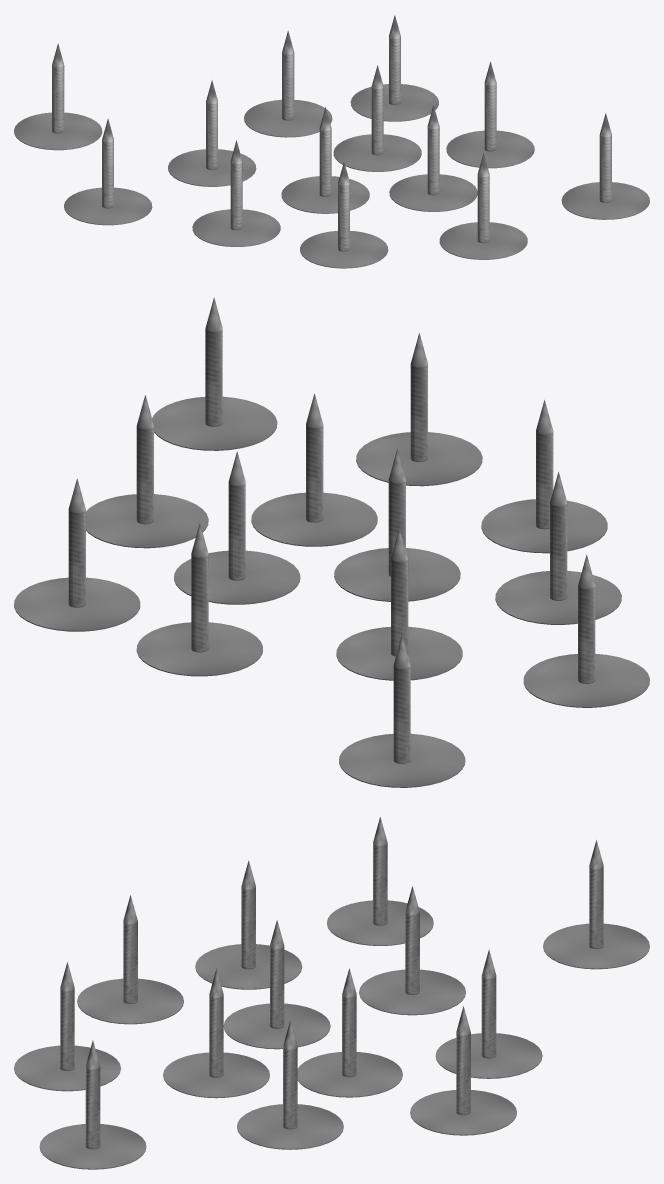
File: Pregos.fbx
3 renders of one model, top to bottom at view 1: azimuth 30°, elevation 25°; view 2: azimuth 150°, elevation 25°; view 3: azimuth 270°, elevation 25°, orthographic. The views are drawn at different scales.
Parts seen in each view (by area): view 1: Cylinder; view 2: Cylinder; view 3: Cylinder.
Part boxes in pixels (left/top/right/bottom): Cylinder: left=14, top=15, right=649, bottom=268; Cylinder: left=14, top=297, right=649, bottom=787; Cylinder: left=14, top=817, right=649, bottom=1169.
Bounding box in the file's own units: 336 × 62.43 × 336.
Materials: 1 (1 with a texture image).
